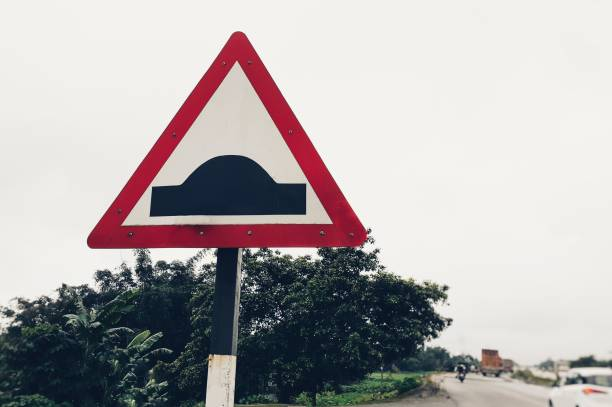speed-breaker: (113, 43, 352, 243)
